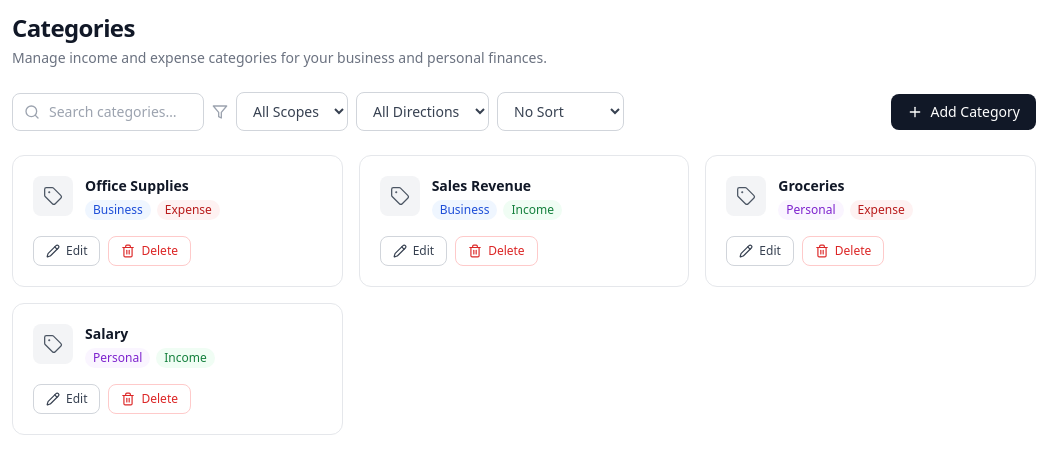
it: CategoriesPage — filtering › filters by personal scope
The image size is (1048, 452).
Expected: the heading "Office Supplies" is shown, [85,176,189,195]
Select "Personal" in the dropdown named "Filter by scope" at (292,112), box [236,92,348,131]
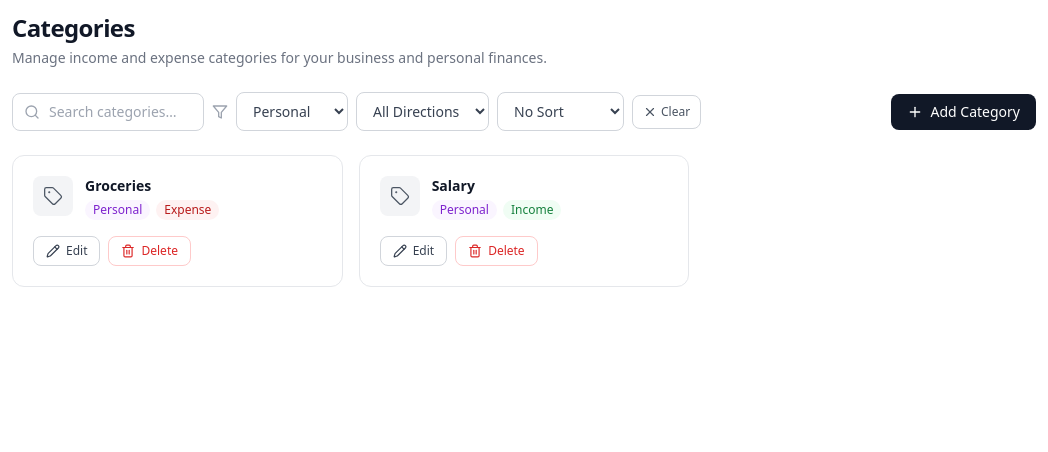
Expected: the heading "Groceries" is shown, [85,176,151,195]
Now the heading "Office Supplies" is gone
